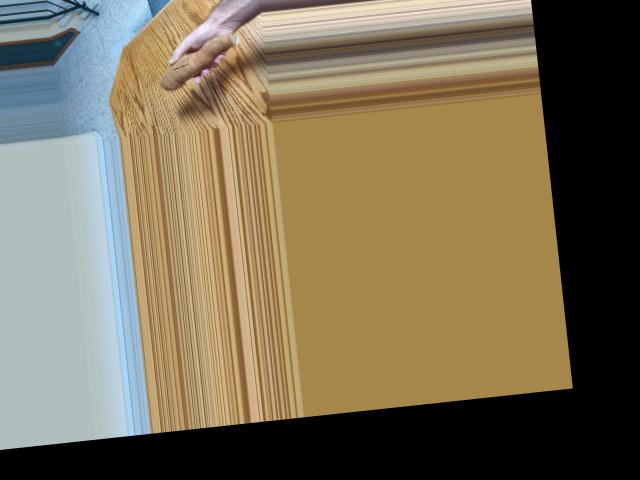sweet_potato: (152, 26, 245, 92)
